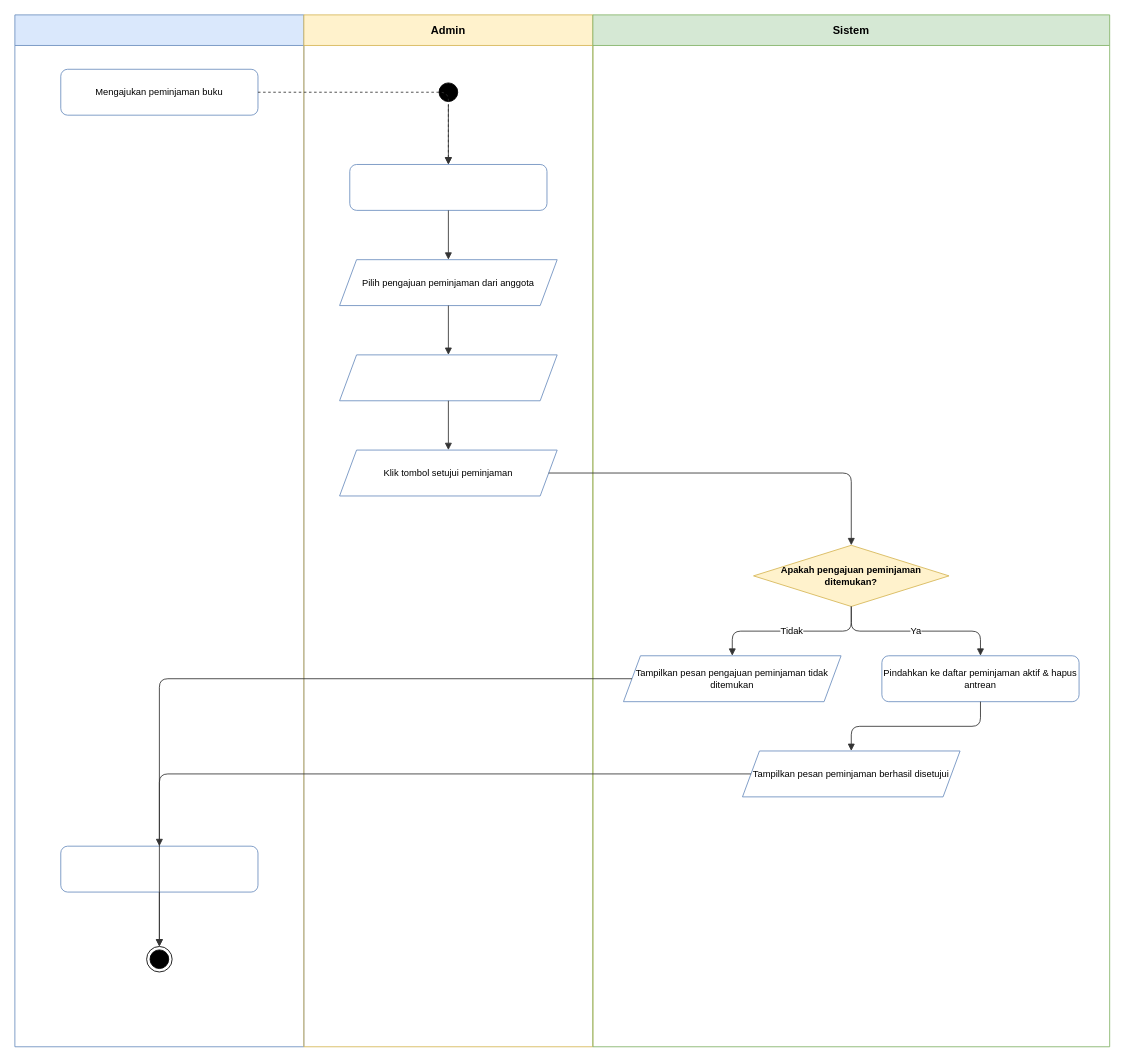
Some shapes in this 1125 by 1062 pixel diagram are drawn without their labels. The box of each missing label's shape, as (x1, y1, x2, y2) in pixels:
Buka menu daftar pengajuan peminjaman: (349, 164, 547, 210)
Buku tercatat sedang dipinjam: (60, 845, 258, 892)
Tentukan tanggal batas pengembalian buku: (339, 354, 557, 401)
User: (14, 14, 304, 1047)
